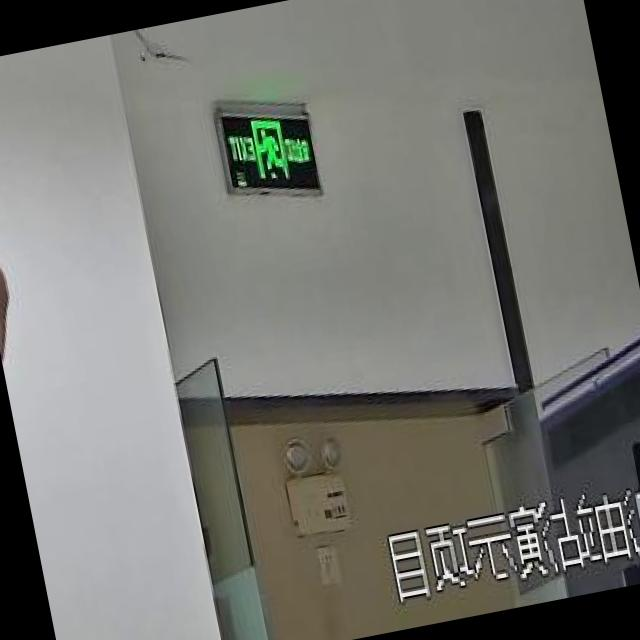Guns: (0, 153, 103, 640)
